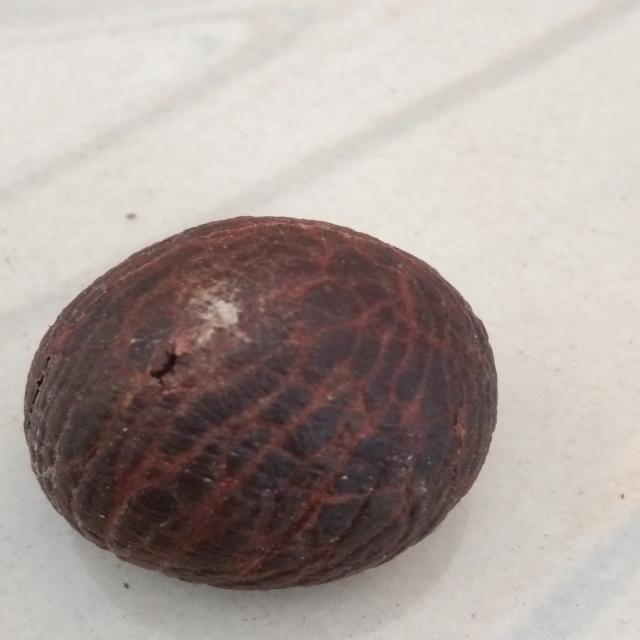karigot: (34, 201, 512, 604)
